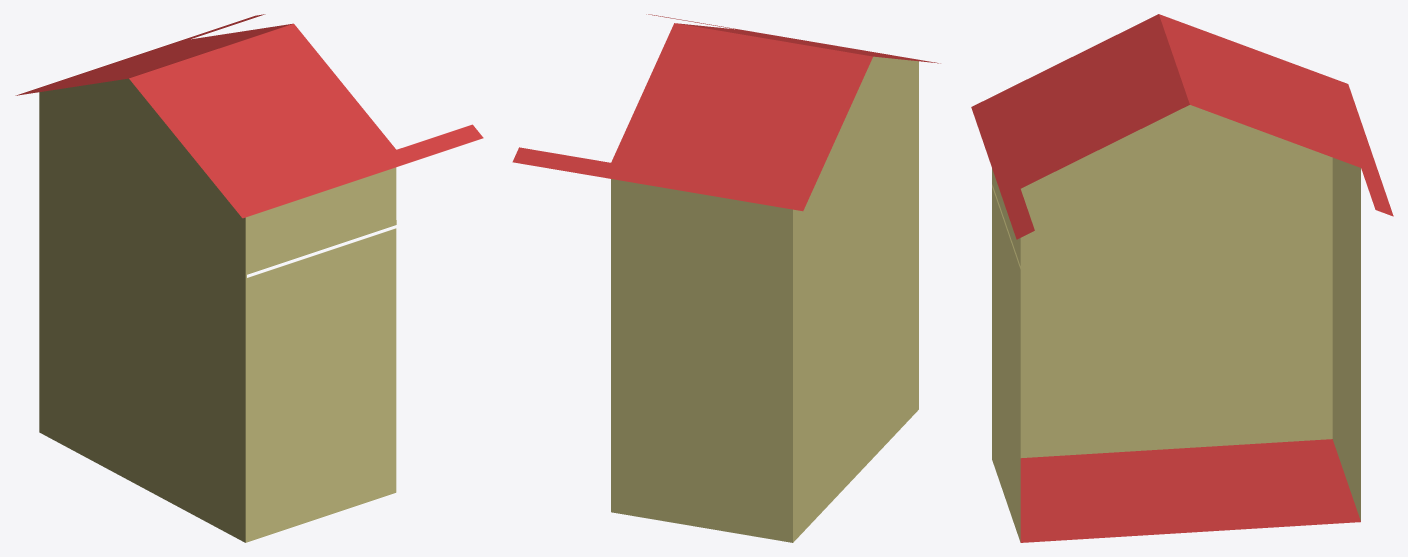
3 views of the same model, side by side, from view 1: azimuth 30°, elevation 25°; view 2: azimuth 150°, elevation 25°; view 3: azimuth 270°, elevation 25° (orthographic). The views are drawn at different scales.
Bounding box in the file's own units: 9.96 × 11.42 × 12.75.
